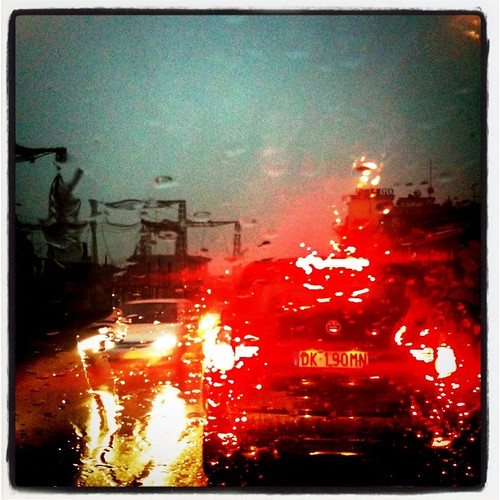car: (218, 245, 468, 461), (83, 298, 199, 386)
sky: (12, 1, 479, 221)
